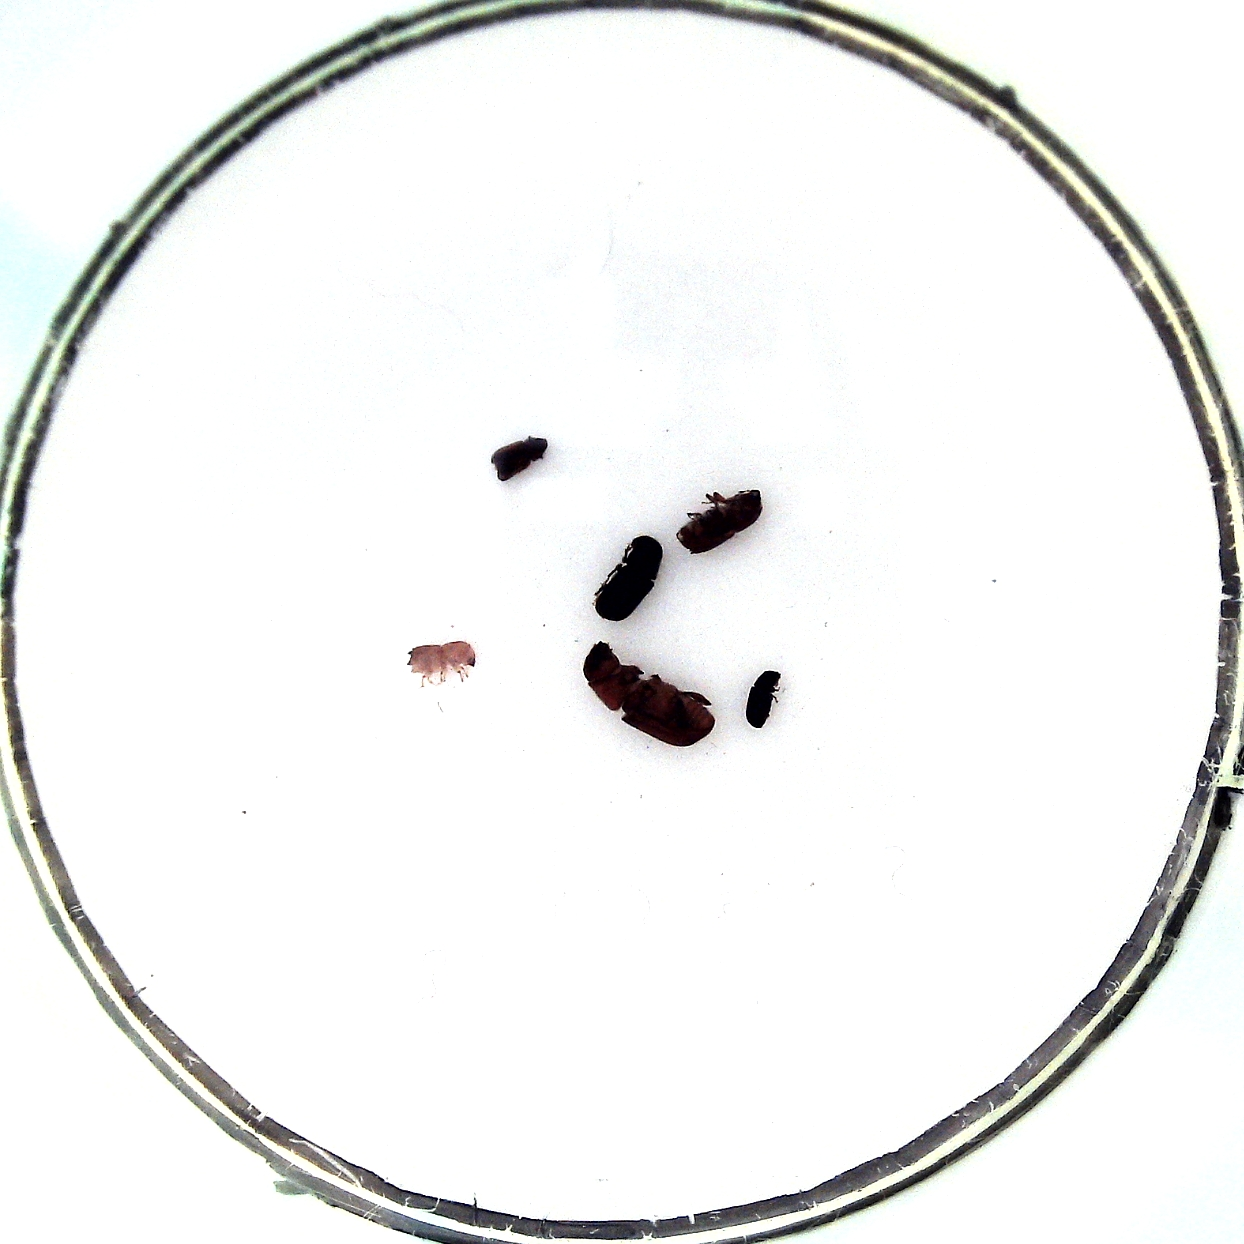Leconte: (584, 640, 717, 746)
acuminatus: (746, 670, 780, 728)
armandi: (594, 535, 663, 623)
coleoptera: (408, 641, 476, 680), (491, 437, 549, 481)
linnaeus: (677, 489, 763, 554)
